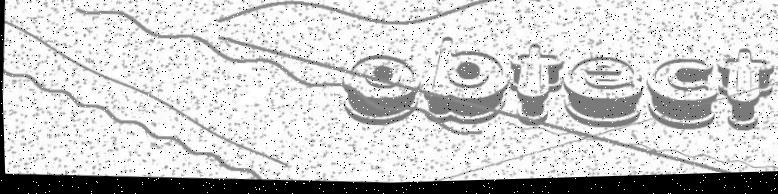b: (420, 36, 513, 132)
c: (642, 59, 720, 138)
e: (558, 57, 647, 136)
o: (339, 54, 425, 133)
t: (504, 43, 565, 134), (714, 50, 777, 137)
